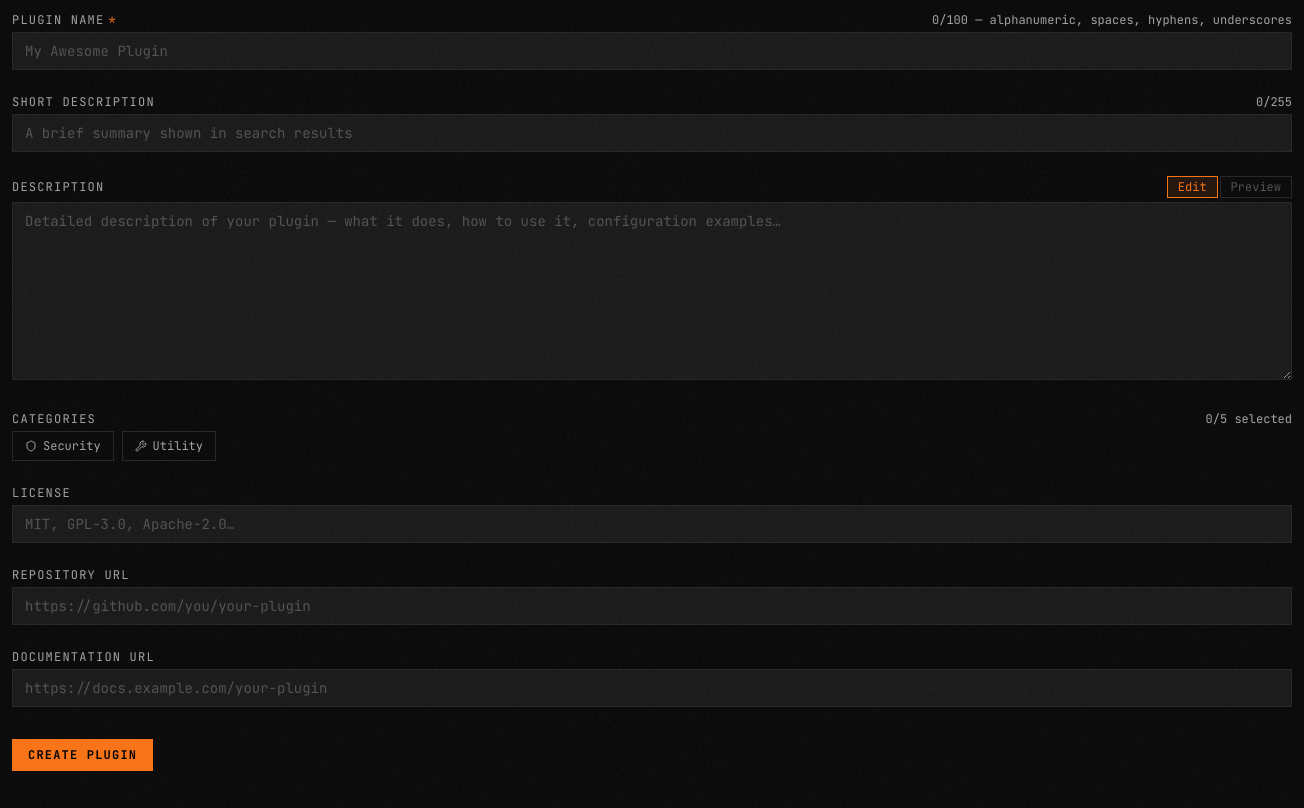
PluginForm › extracts API message from server error payload
Type "Valid Name" into the field labelled "Plugin Name*".
click(652, 51); type("Valid Name")  # box [12, 32, 1292, 70]
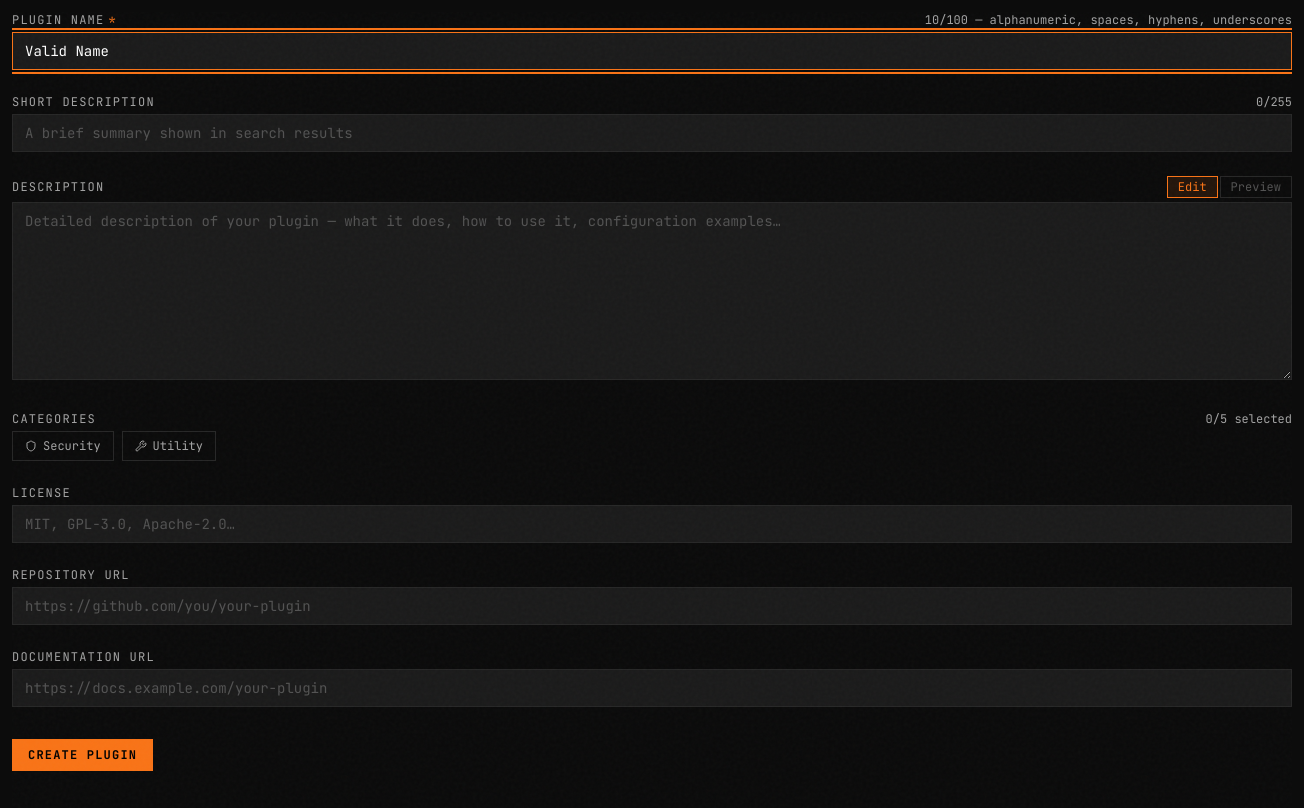
Click the button "Create Plugin".
click(83, 755)  # box [12, 739, 153, 771]
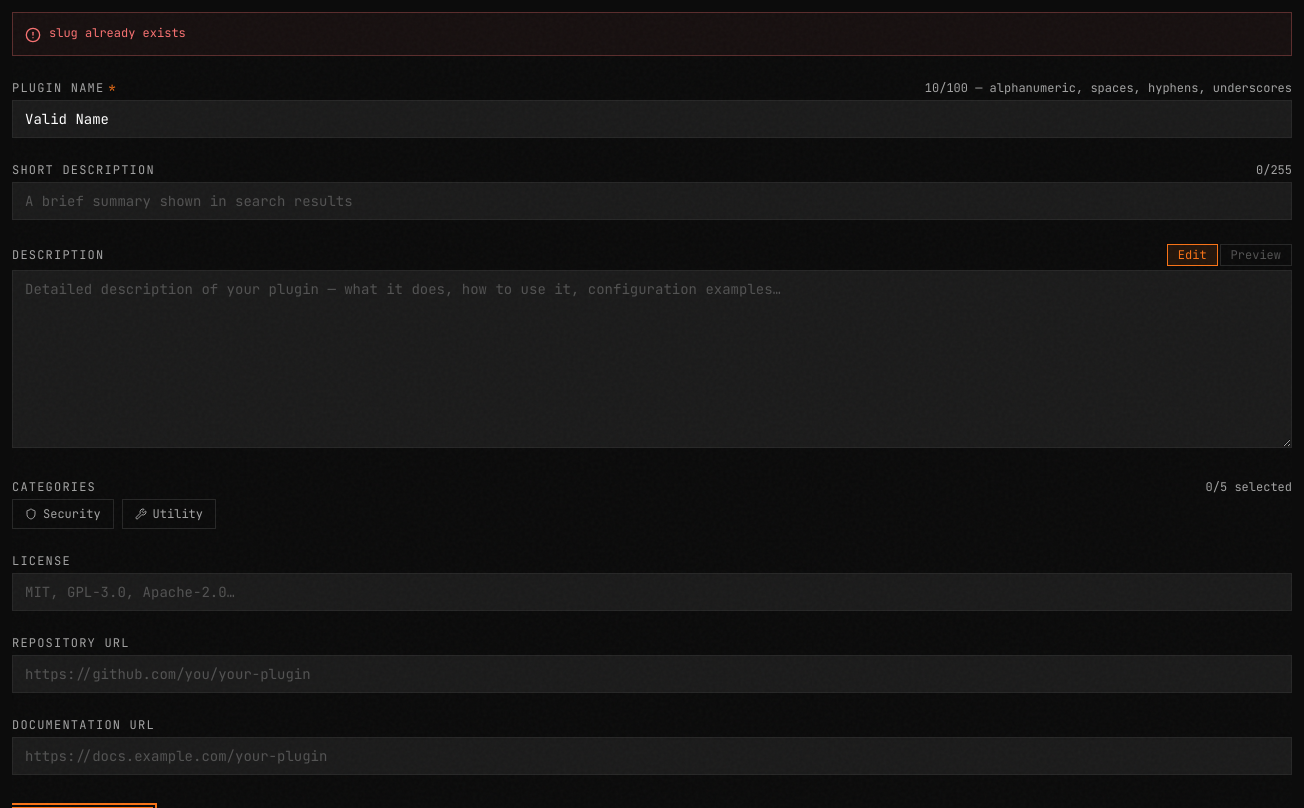
Now the text "slug already exists" is shown, box [49, 25, 186, 41]
